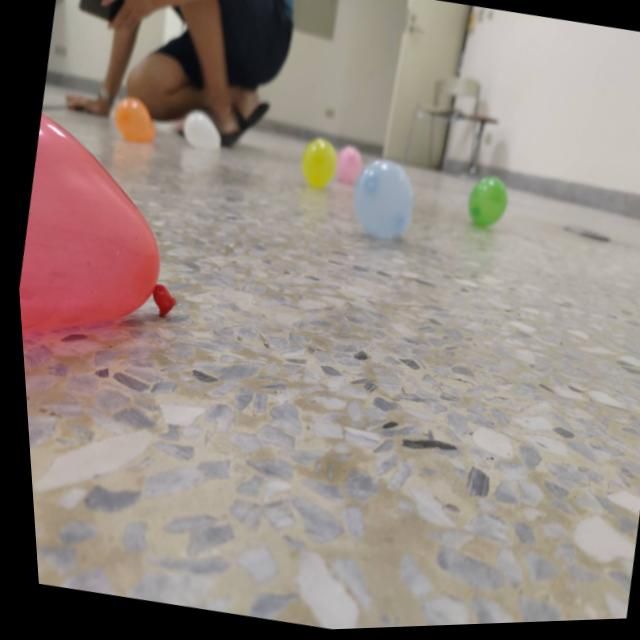other: (343, 155, 422, 249), (458, 175, 510, 236), (108, 93, 160, 148), (292, 135, 340, 194), (177, 106, 226, 156), (330, 145, 363, 187)
red: (6, 108, 205, 364)
